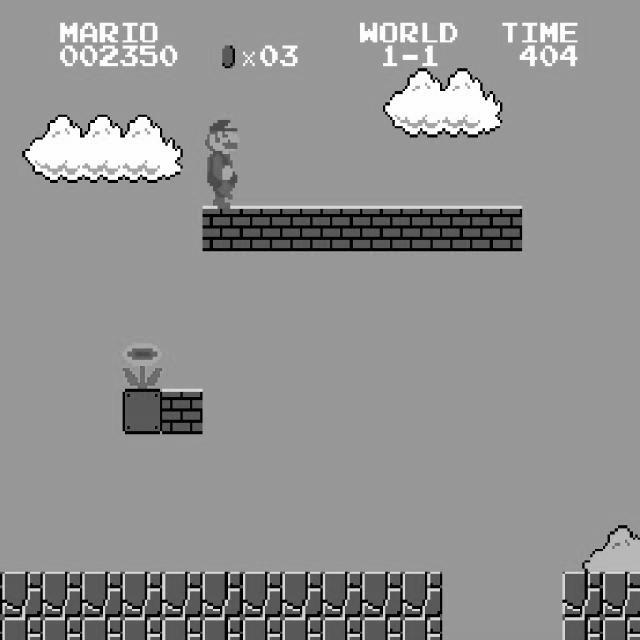0- big_mario: (200, 114, 242, 208)
1- brick_block: (162, 388, 203, 434), (202, 206, 243, 251), (242, 206, 283, 251), (282, 206, 323, 251), (322, 206, 363, 251), (362, 206, 403, 251), (402, 206, 443, 251), (442, 206, 483, 251), (482, 206, 523, 251)
17- undestructible_block: (2, 572, 43, 618), (42, 572, 83, 618), (82, 572, 123, 618), (122, 572, 163, 618), (162, 572, 203, 618), (202, 572, 243, 618), (242, 572, 283, 618), (282, 572, 323, 618), (322, 572, 363, 618), (362, 572, 403, 618), (402, 572, 443, 618), (562, 572, 603, 618), (603, 572, 640, 618), (2, 617, 43, 640), (42, 617, 83, 640), (82, 617, 123, 640), (122, 617, 163, 640), (162, 617, 203, 640), (202, 617, 243, 640), (242, 617, 283, 640), (282, 617, 323, 640), (322, 617, 363, 640), (362, 617, 403, 640), (402, 617, 443, 640), (562, 617, 603, 640), (603, 617, 640, 640), (0, 571, 2, 617), (0, 617, 2, 639)
3- empty_block: (122, 388, 163, 434)
6- flower: (120, 341, 162, 388)
